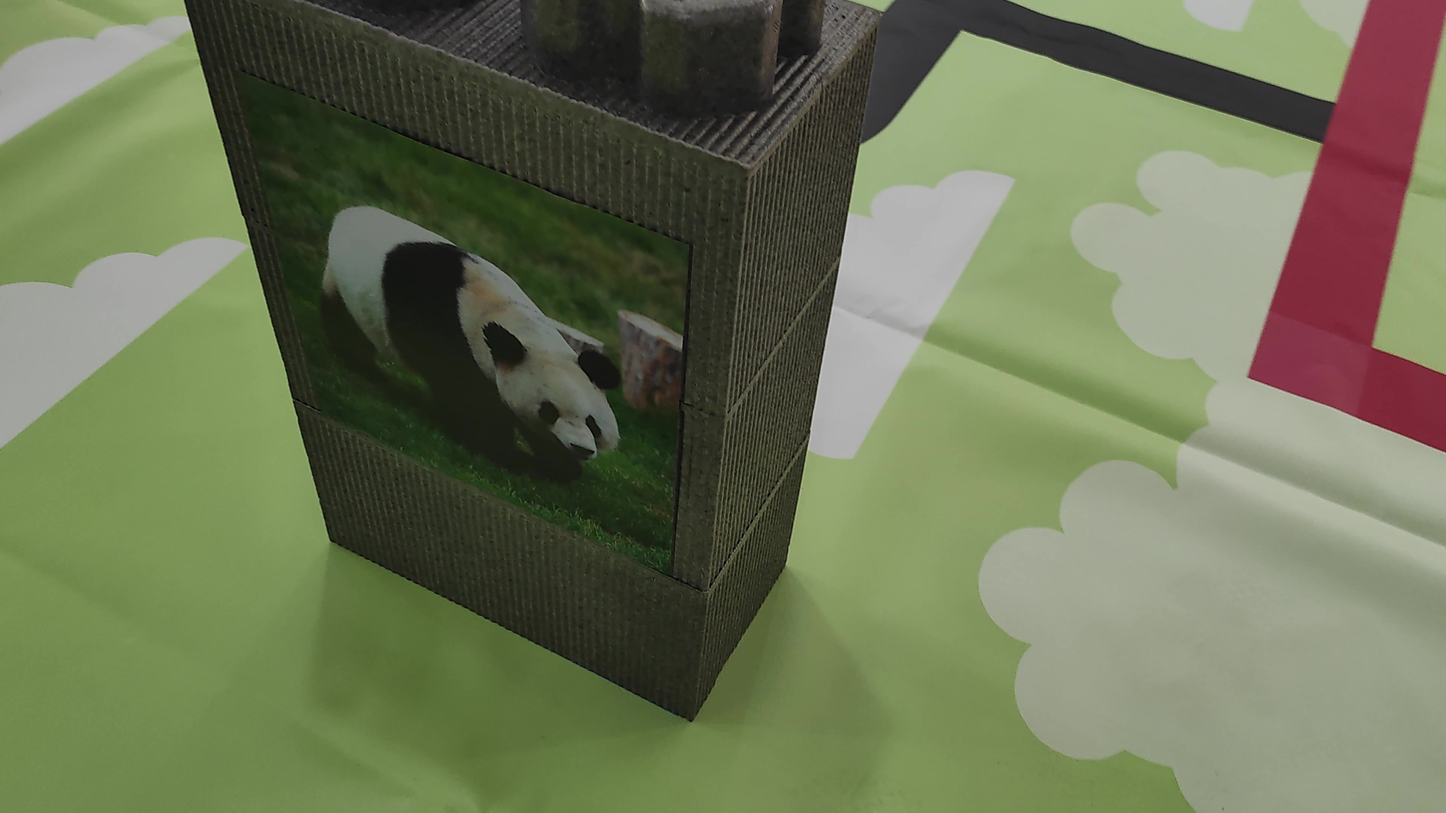panda: (300, 178, 627, 499)
